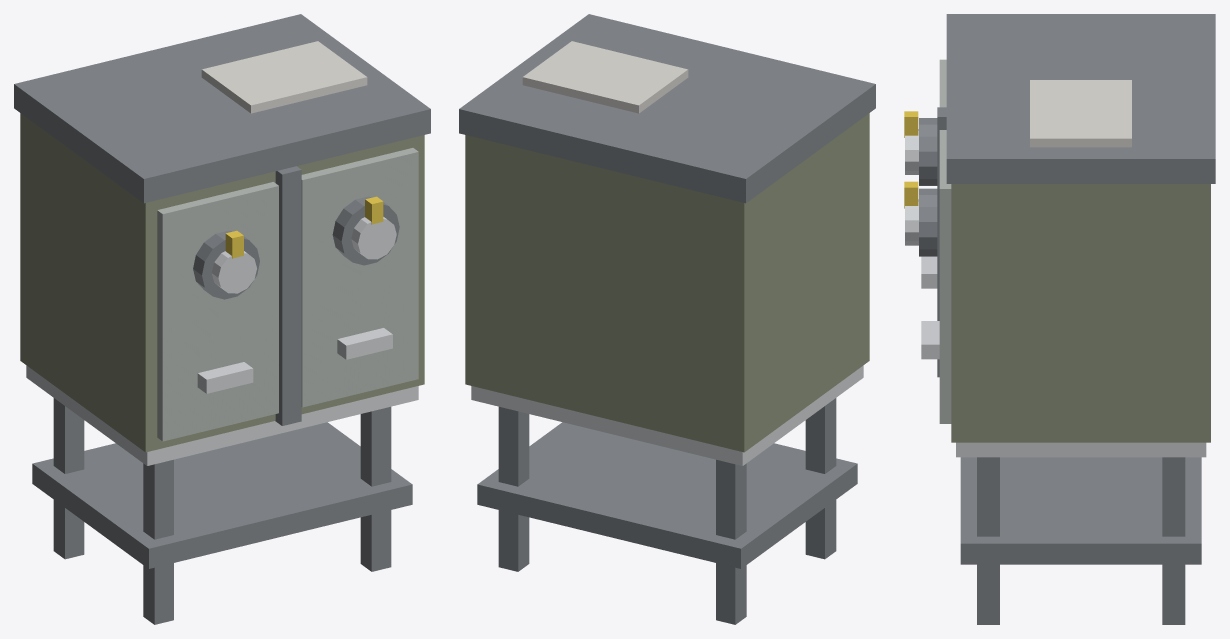
File: cold-war-missile-silo-and-command-bunker-code-authenti-8f0abaf2__15664.glb
The picture shows the model from 3 angles, left to right: view 1: azimuth 30°, elevation 25°; view 2: azimuth 150°, elevation 25°; view 3: azimuth 270°, elevation 25°; orthographic projection. The views are drawn at different scales.
Parts seen in each view (by area): view 1: code-authenticator-safe; view 2: code-authenticator-safe; view 3: code-authenticator-safe.
Part boxes in pixels (x1,y1,x2,y2): code-authenticator-safe: (14,14,430,624); code-authenticator-safe: (459,14,875,624); code-authenticator-safe: (904,14,1215,624).
Size of the model in its own units: 0.74 by 1.16 by 0.6712.
